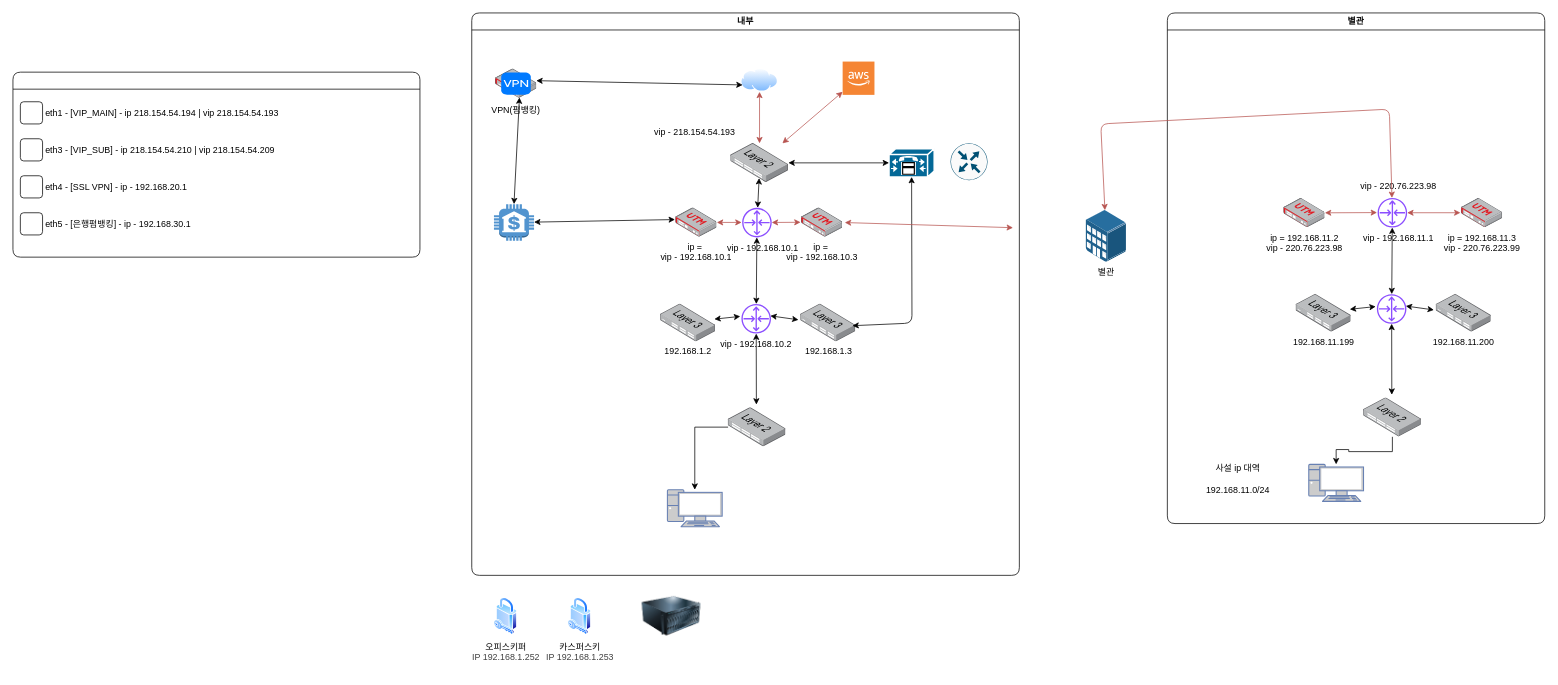
Some shapes in this 1558 by 685 pixel diagram are drawn without their labels. The box of each missing label's shape, as (x1, y1, x2, y2) in pixels:
KT ISP 장비: (730, 143, 788, 182)
UTM: (12, 71, 420, 257)
개발서버 IP 192.168.1.5: (642, 586, 701, 645)
라우팅 기능 포함: (950, 143, 988, 180)
